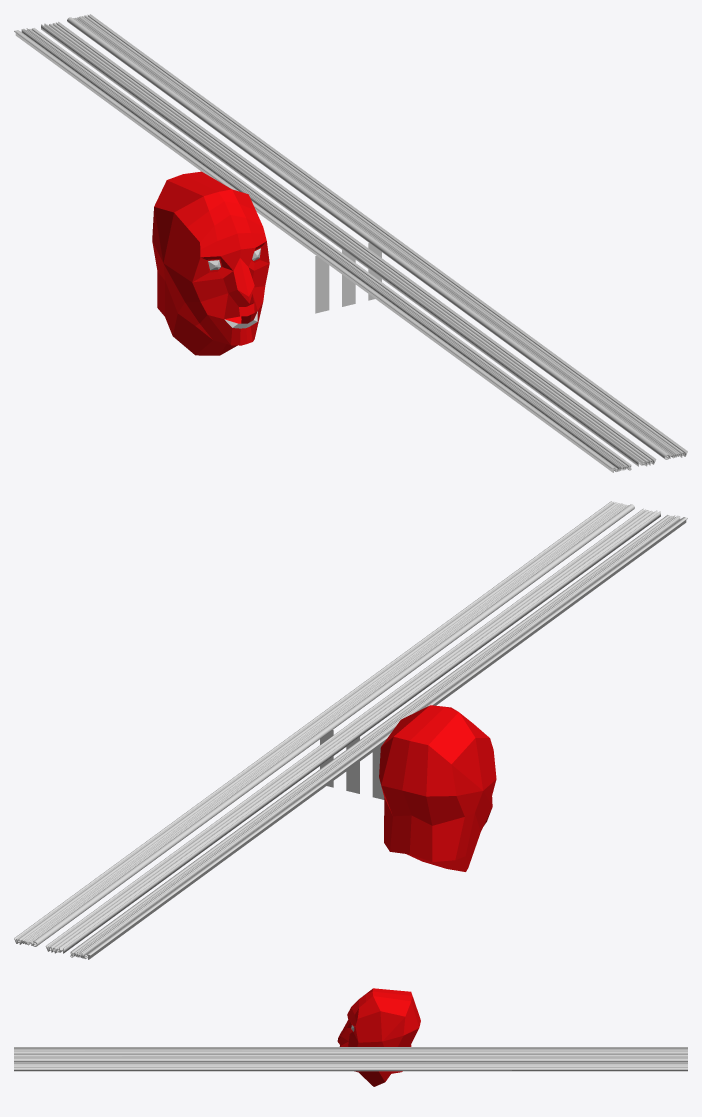
3 renders of one model, top to bottom at view 1: azimuth 30°, elevation 25°; view 2: azimuth 150°, elevation 25°; view 3: azimuth 270°, elevation 25°, orthographic. The views are drawn at different scales.
Parts seen in each view (by area): view 1: IA_Face, Text.003, Text, Text.002, 1_Talking_CRTL; view 2: IA_Face, Text.003, Text, Text.002; view 3: Text.003, Text.002, Text, IA_Face.
Boxes of the visible parts, x1,y1,x2,y2 form: IA_Face: [152, 171, 269, 355]; Text.003: [67, 14, 687, 459]; Text: [14, 28, 631, 472]; Text.002: [41, 21, 656, 466]; 1_Talking_CRTL: [315, 256, 329, 313]; IA_Face: [379, 705, 496, 871]; Text.003: [14, 501, 634, 946]; Text: [70, 515, 687, 959]; Text.002: [45, 508, 660, 953]; Text.003: [14, 1062, 687, 1071]; Text.002: [14, 1054, 687, 1062]; Text: [14, 1047, 687, 1054]; IA_Face: [337, 988, 420, 1086].
Size of the model in its own units: 721 by 567 by 3767.
